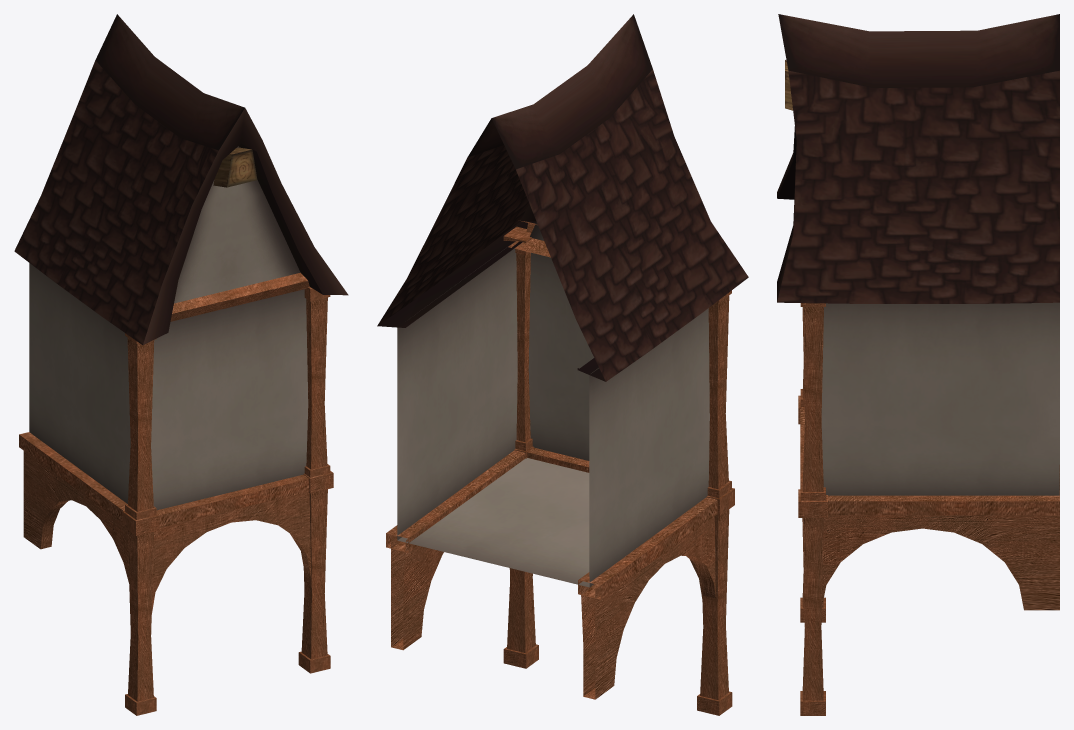
Rendered from fanasty_mod_extention_piece_D.fbx.
3 renders of one model, left to right at view 1: azimuth 30°, elevation 25°; view 2: azimuth 150°, elevation 25°; view 3: azimuth 270°, elevation 25°, orthographic. The views are drawn at different scales.
Visible parts, largest first — view 1: extention_piece_D; view 2: extention_piece_D; view 3: extention_piece_D.
Boxes of the visible parts, bbox=[...] form: extention_piece_D: bbox=[14, 14, 348, 715]; extention_piece_D: bbox=[377, 14, 748, 715]; extention_piece_D: bbox=[777, 14, 1059, 715].
Size of the model in its own units: 3.85 by 10.56 by 4.16.
